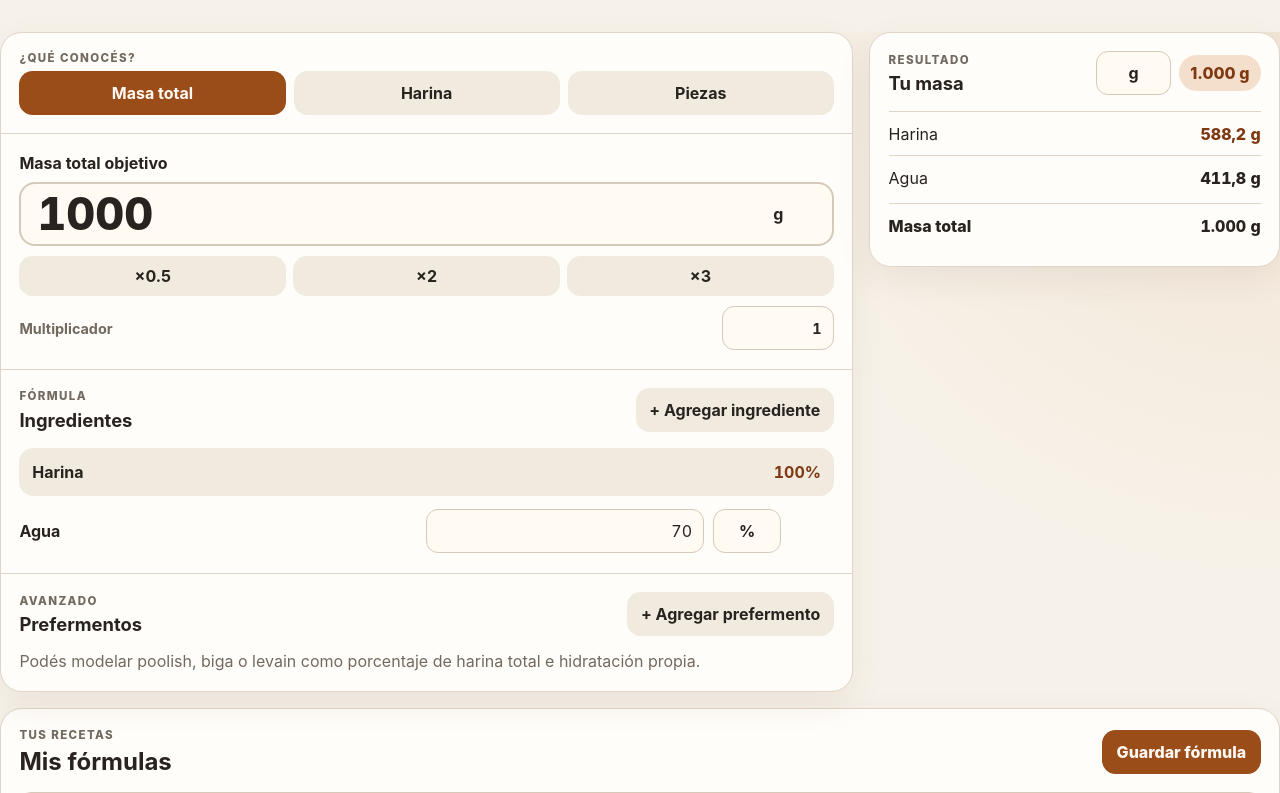
PresetList V2 organization UI › filters presets by name case-insensitively
Click the button "Guardar fórmula" at (1181,752), box x1=1102 y1=730 x2=1261 y2=774
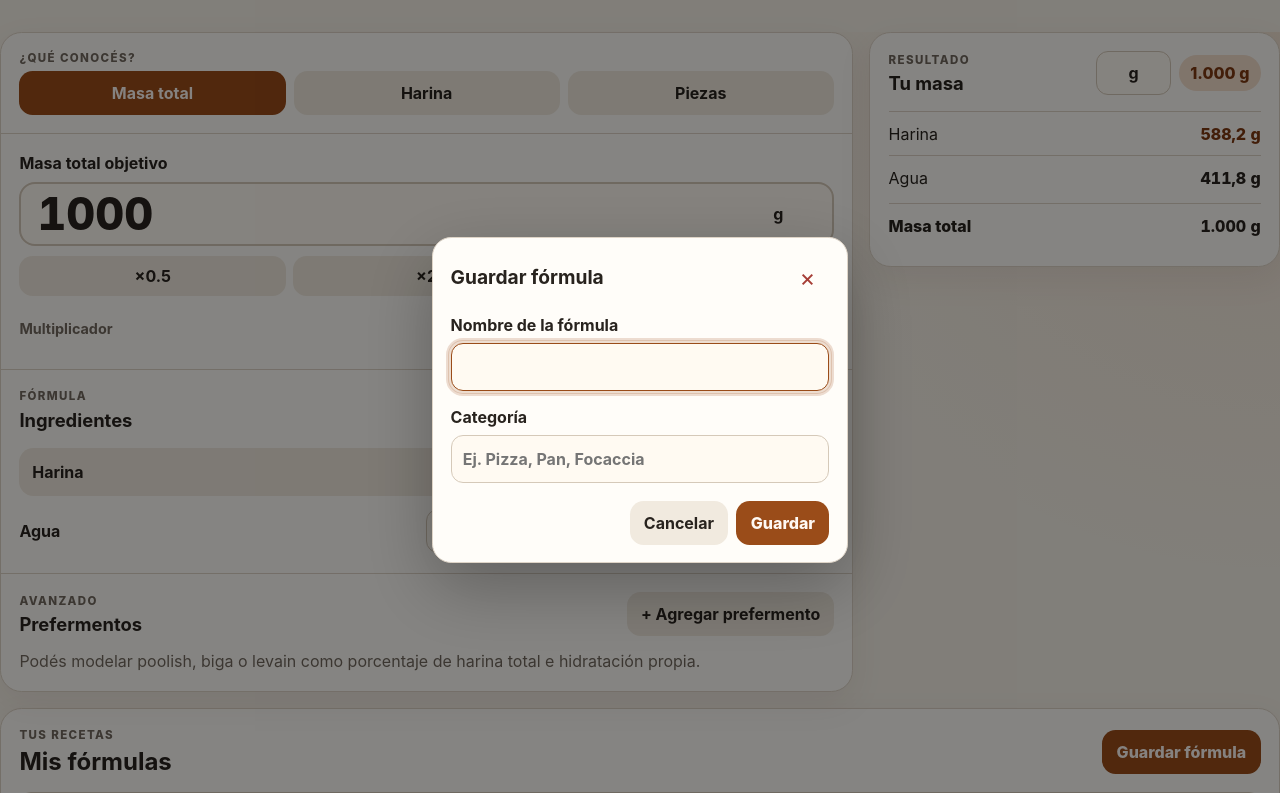
Type "Napolitana" into the field labelled "Nombre de la fórmula" at (640,367), box x1=451 y1=343 x2=829 y2=391
Click the button "Guardar" at (783,523), box x1=736 y1=501 x2=829 y2=545
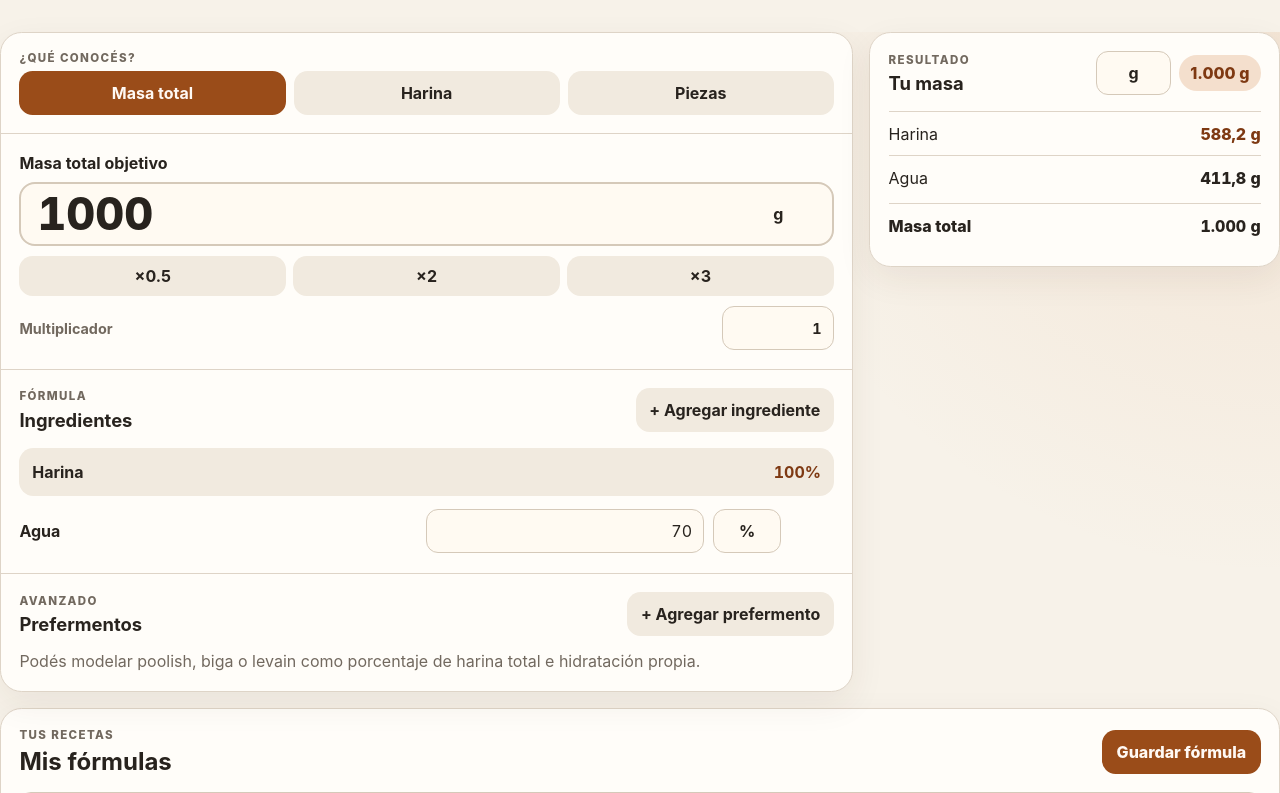
Click the button "Guardar fórmula" at (1181,752), box x1=1102 y1=730 x2=1261 y2=774
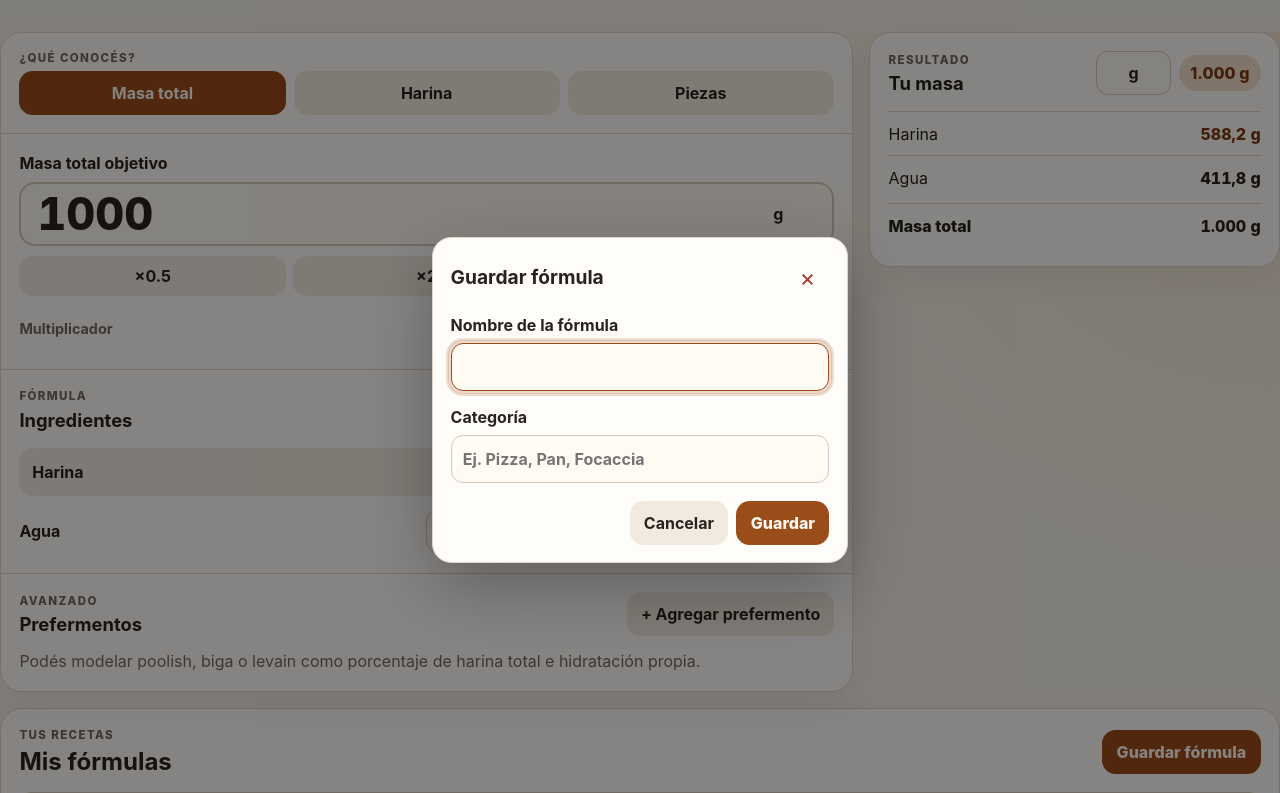
Type "Focaccia" into the field labelled "Nombre de la fórmula" at (640,367), box x1=451 y1=343 x2=829 y2=391
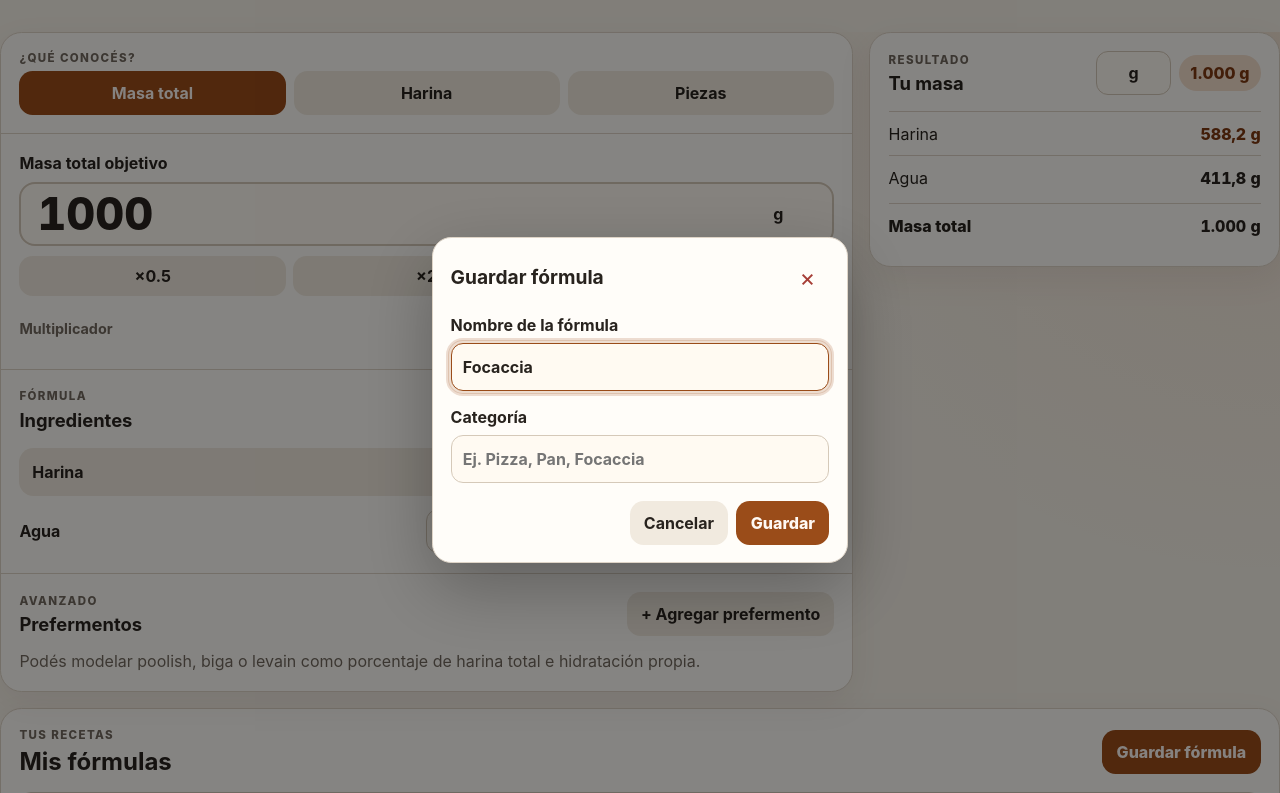
Click the button "Guardar" at (783,523), box x1=736 y1=501 x2=829 y2=545
(page scrolled)
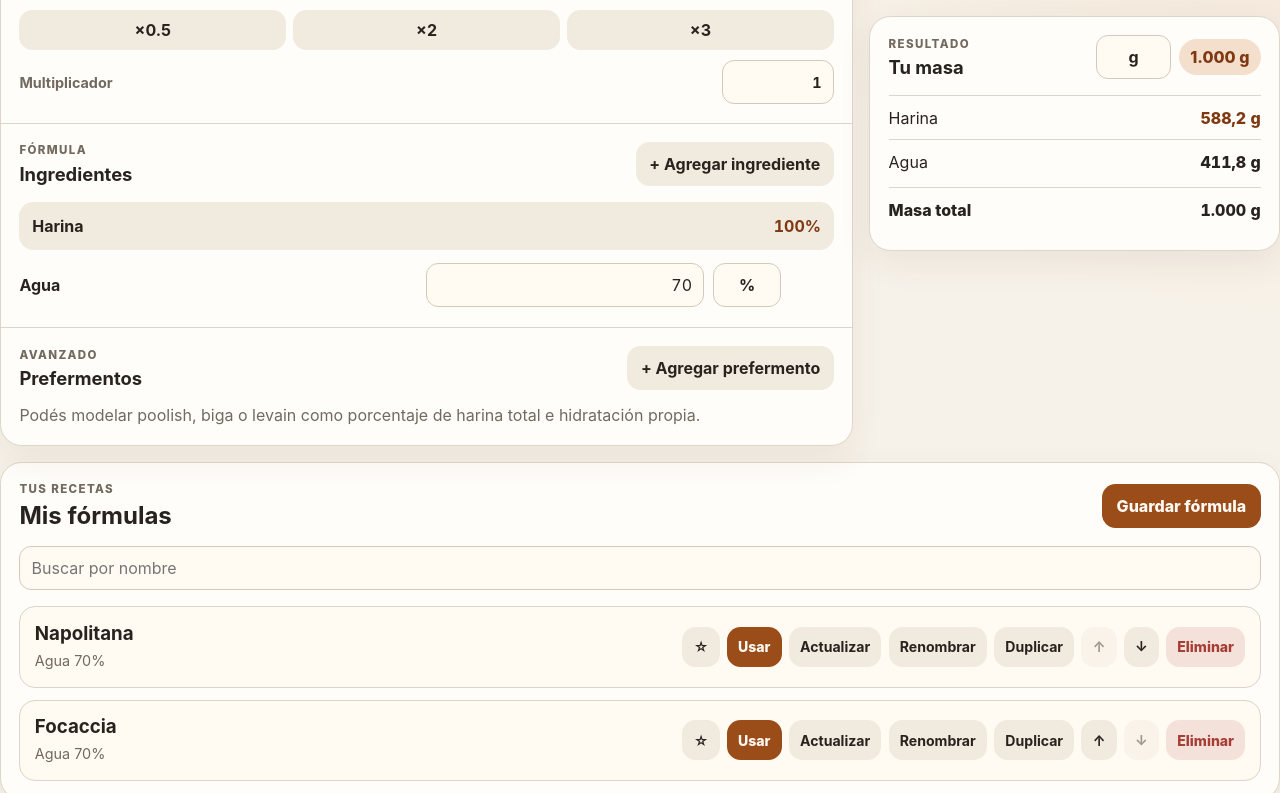
Type "NAPO" into the field named "Buscar fórmulas" at (640,568), box x1=19 y1=546 x2=1261 y2=590
(page scrolled)
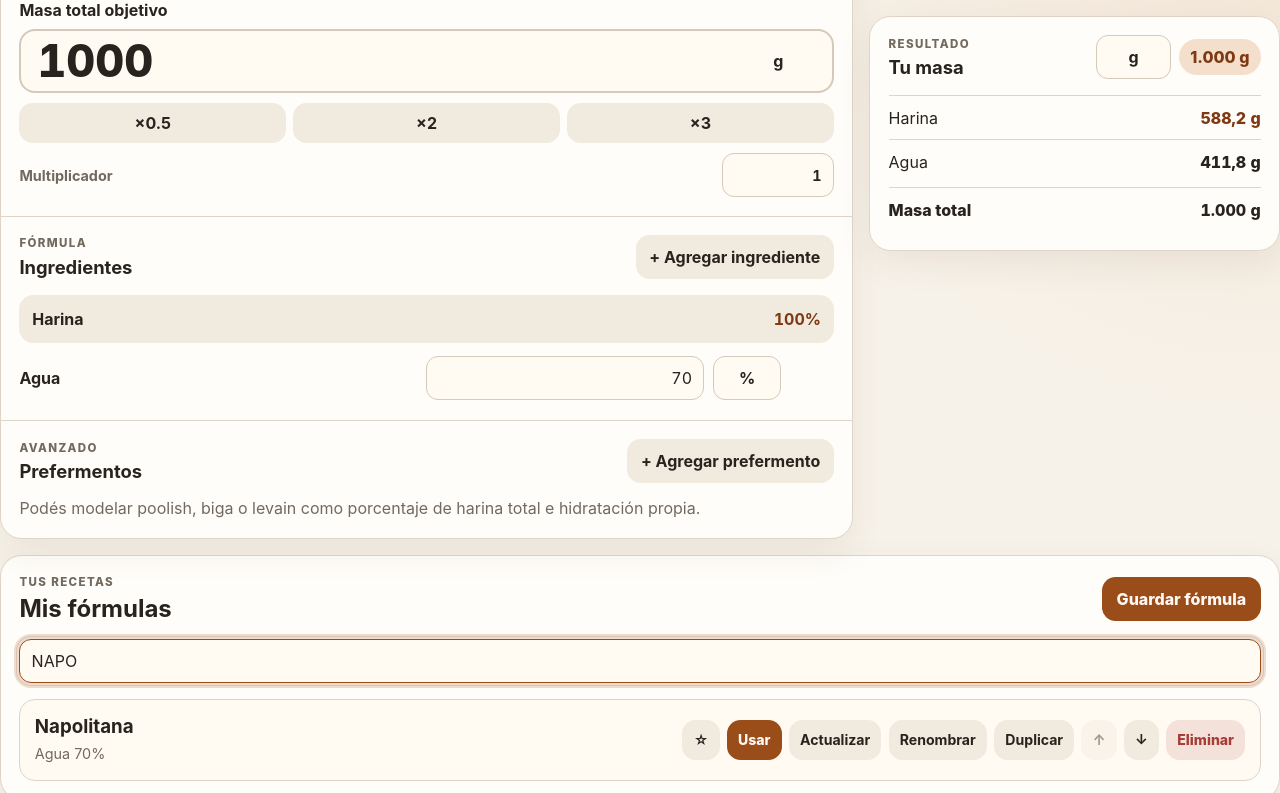
Result: the heading "Napolitana" is shown at x1=35 y1=715 x2=134 y2=738
Result: the heading "Focaccia" is gone
